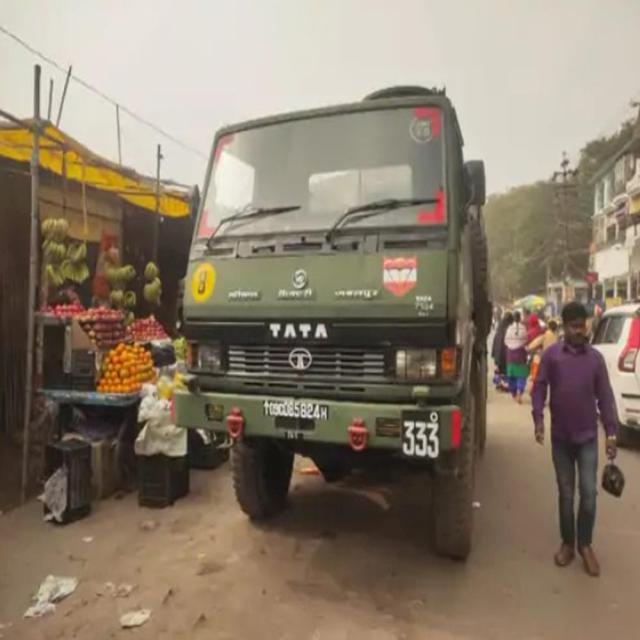car: (591, 304, 640, 433)
truck: (174, 86, 490, 557)
